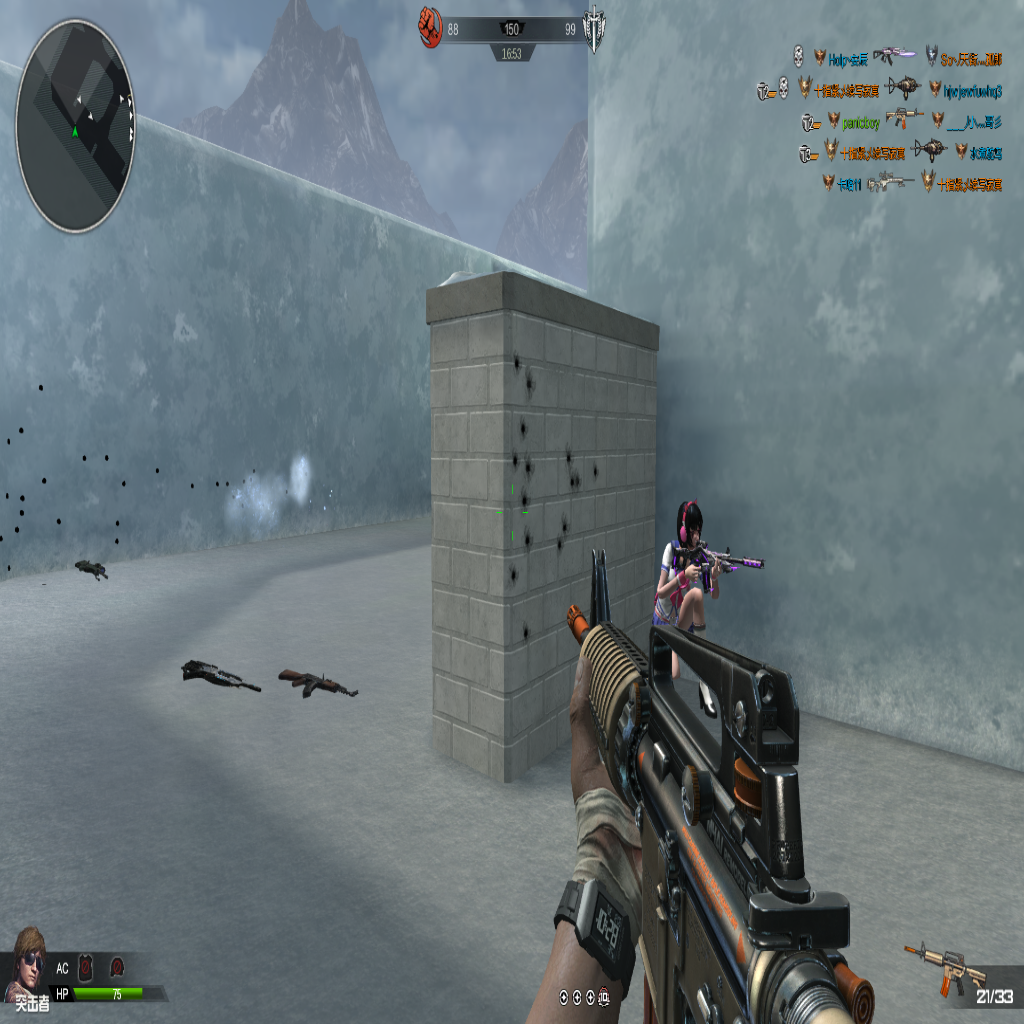tt: (655, 495, 713, 633)
